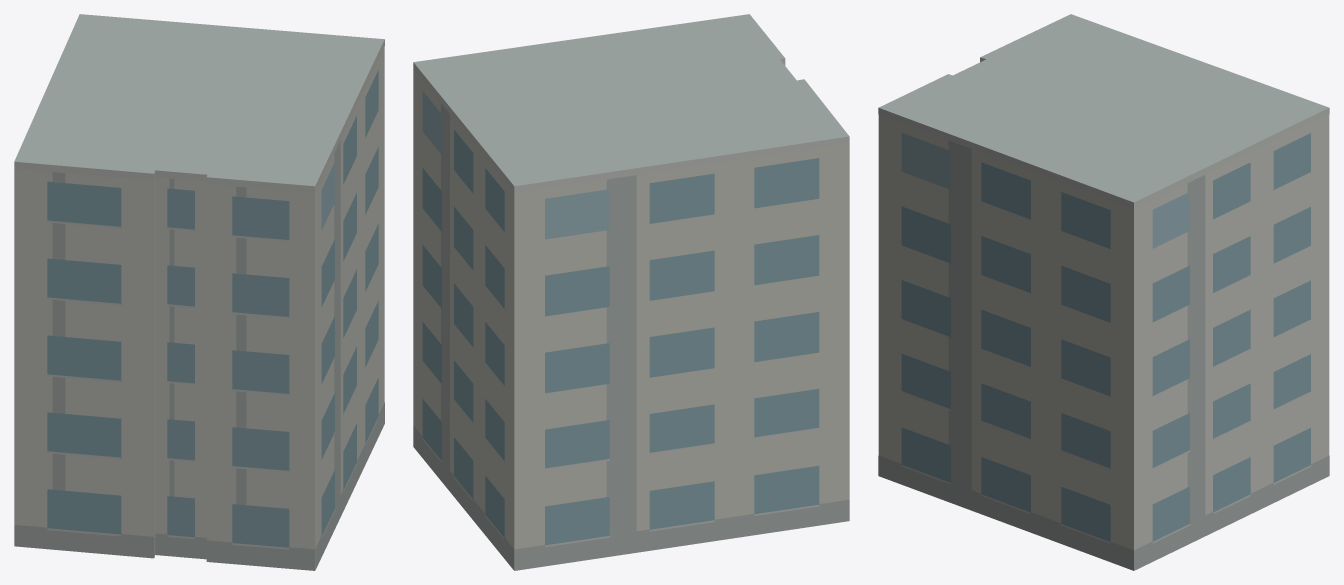
Rendered from survey-upis-32982840.glb.
3 views of the same model, side by side, from view 1: azimuth 30°, elevation 25°; view 2: azimuth 150°, elevation 25°; view 3: azimuth 270°, elevation 25° (orthographic). The views are drawn at different scales.
Visible parts, largest first — view 1: survey-upis-32982840.tmp; view 2: survey-upis-32982840.tmp; view 3: survey-upis-32982840.tmp.
Part boxes in pixels (left/top/right/bottom): survey-upis-32982840.tmp: left=14, top=14, right=384, bottom=570; survey-upis-32982840.tmp: left=413, top=14, right=849, bottom=570; survey-upis-32982840.tmp: left=878, top=14, right=1329, bottom=570.
Size of the model in its own units: 14.75 by 13.43 by 14.91.
